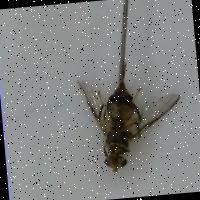Oriental-fruit-fly: (70, 54, 188, 178)
